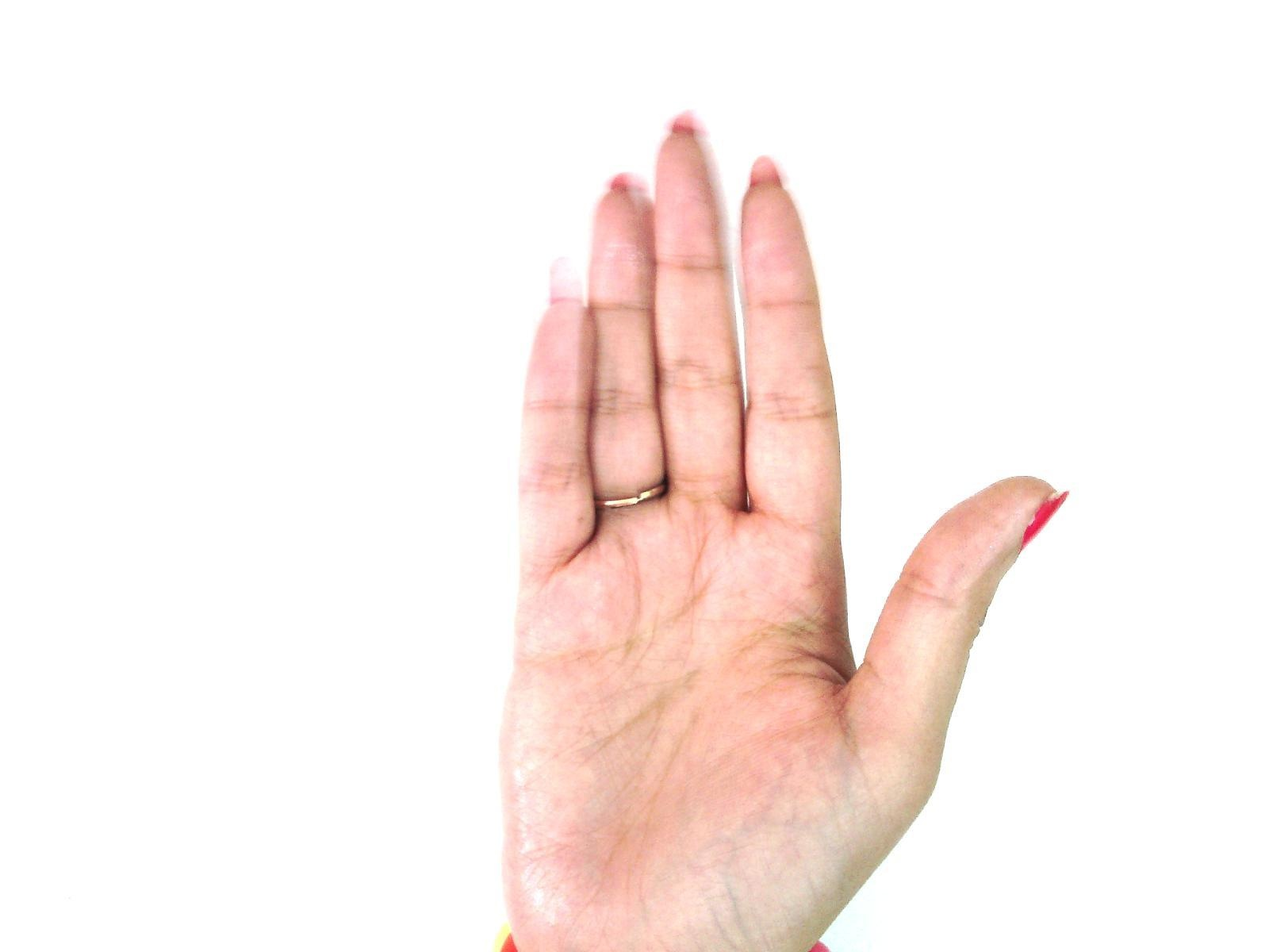open_palm: (493, 113, 1070, 951)
